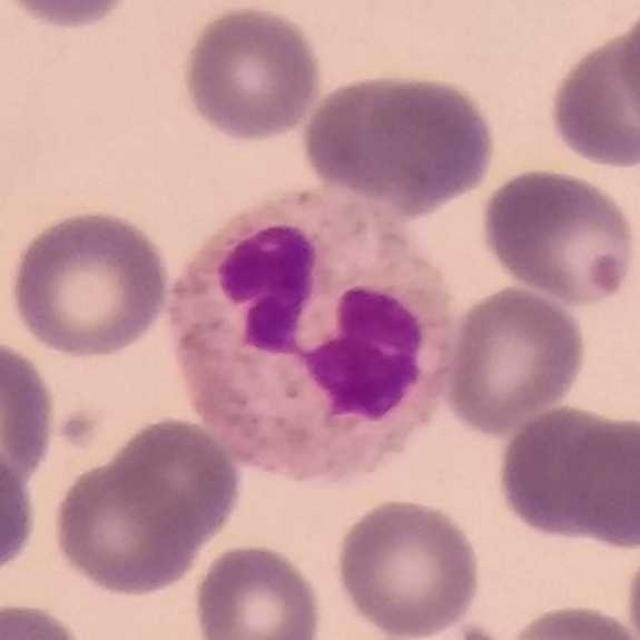Neutrophil: (172, 187, 459, 494)
Platelets: (46, 396, 109, 455), (580, 251, 634, 302)
RBC: (48, 414, 244, 599), (298, 69, 501, 214), (5, 205, 174, 362), (477, 164, 639, 308), (440, 283, 591, 436), (334, 491, 489, 637), (177, 2, 326, 145), (492, 403, 636, 548), (544, 18, 640, 174), (188, 538, 327, 640), (0, 334, 60, 497), (493, 600, 640, 640), (0, 440, 41, 583), (1, 0, 139, 33), (0, 596, 93, 640), (614, 0, 640, 138), (621, 557, 639, 640)
